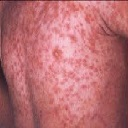Measles: (12, 11, 113, 115)
